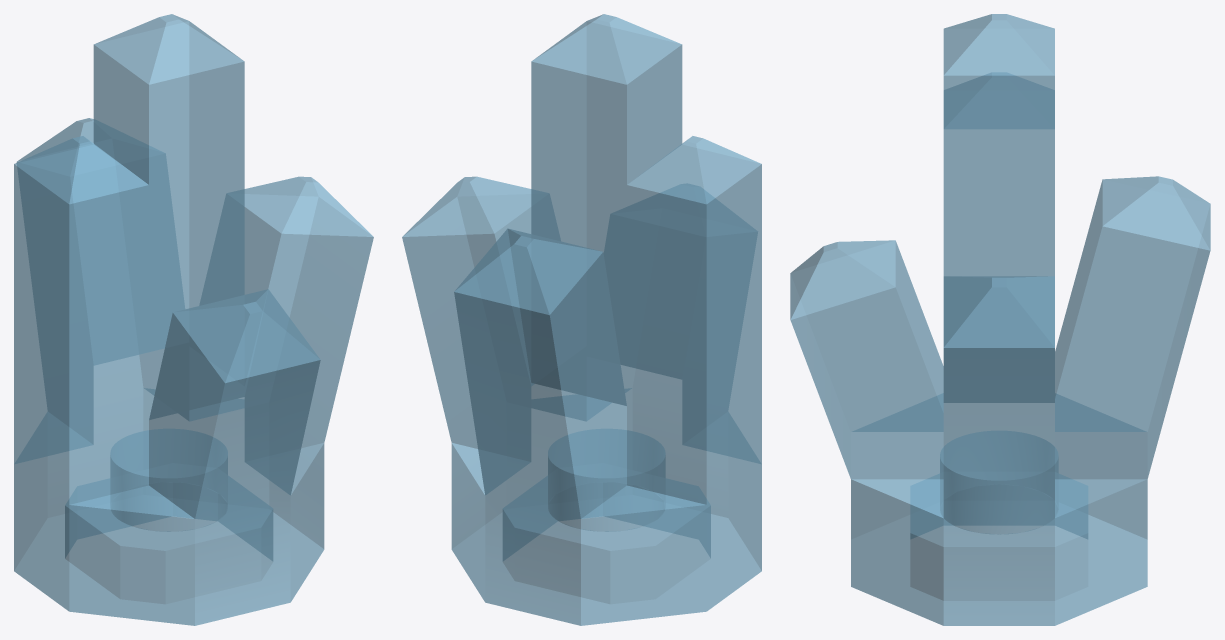
Rendered from LegoCoin.glb.
The picture shows the model from 3 angles, left to right: view 1: azimuth 30°, elevation 25°; view 2: azimuth 150°, elevation 25°; view 3: azimuth 270°, elevation 25°; orthographic projection.
Parts seen in each view (by area): view 1: LegoCoin; view 2: LegoCoin; view 3: LegoCoin.
Boxes of the visible parts, bbox=[...] form: LegoCoin: bbox=[14, 14, 373, 625]; LegoCoin: bbox=[402, 14, 761, 625]; LegoCoin: bbox=[790, 14, 1210, 625].
Size of the model in its own units: 23.88 by 40.6 by 28.3.
